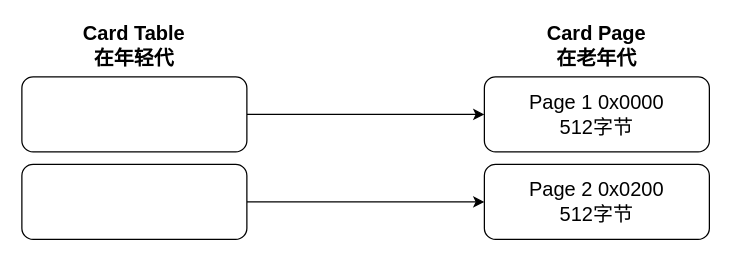
Image size: 731x261. Some labels were removed from this diagram. Each missing label, with the centre of its shape:
Card 1 值为 1 （标识Page1有引用年轻代对象） 1字节 指向0x0000: the point at 134,114
Card 2 值为 0 （标识Page2没有有引用年轻代对象） 1字节: the point at 134,201
